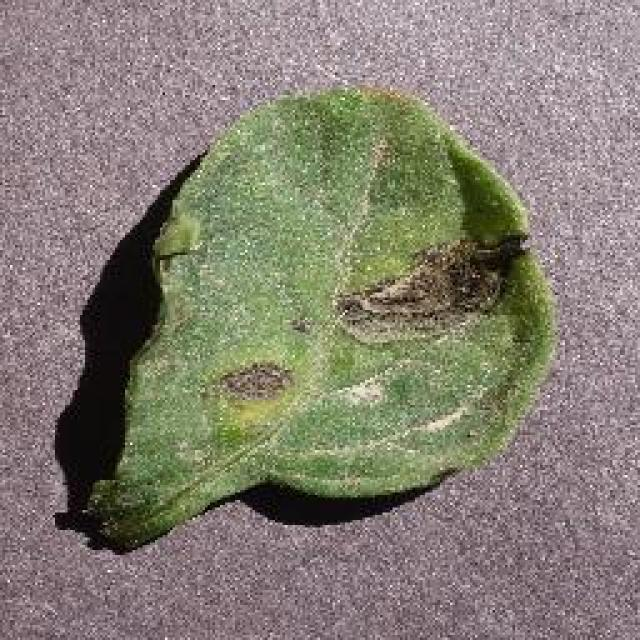Tomato Early blight leaf: (77, 83, 557, 547)
